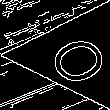O_NE: (35, 23, 110, 87)
